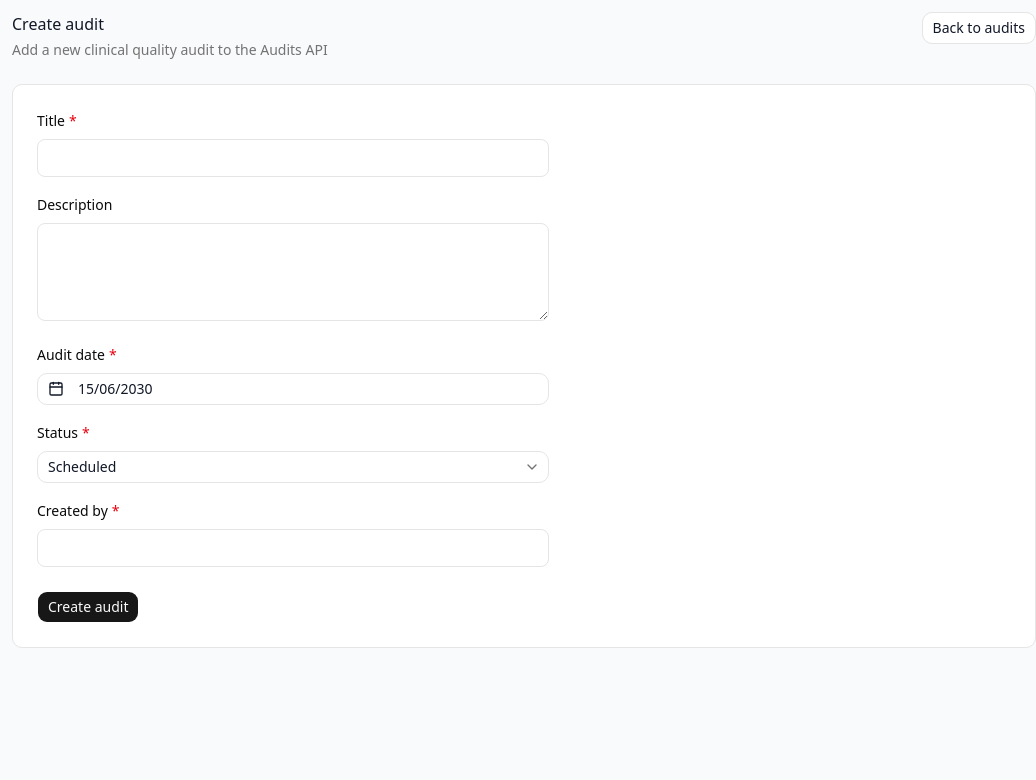
AuditCreateView › shows validation errors for required fields when submitting empty
Click the button "Create audit" at (88, 607), box [37,591,140,623]
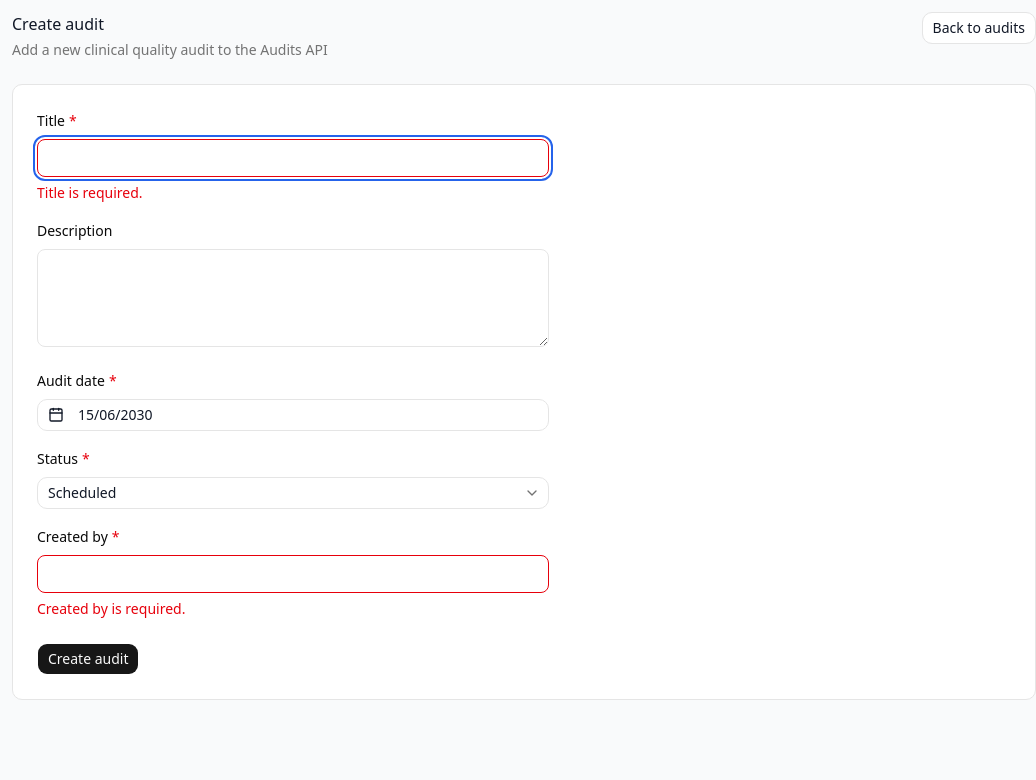
Expected: the text "Title is required." is shown, [37,183,143,202]
Expected: the text "Created by is required." is shown, [37,599,185,618]
